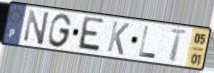E: (75, 15, 106, 55)
G: (47, 13, 74, 49)
K: (106, 19, 131, 57)
L: (137, 25, 158, 60)
N: (22, 8, 51, 47)
T: (168, 27, 189, 64)
